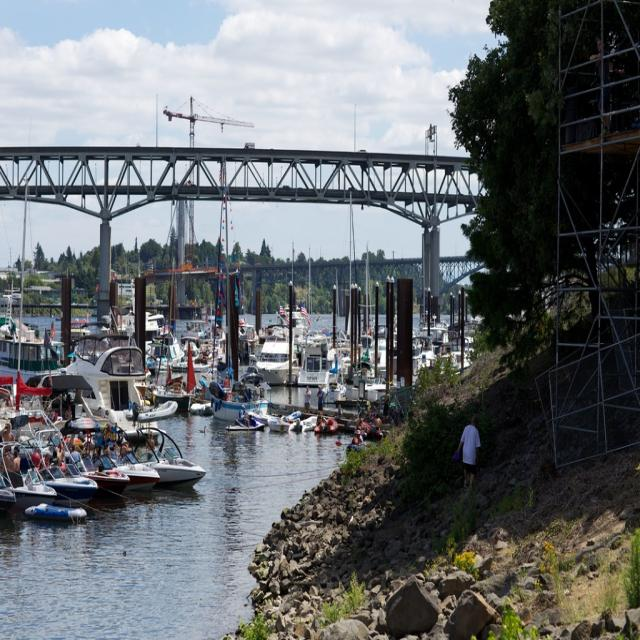Boat: (0, 314, 485, 510), (132, 423, 205, 493)
